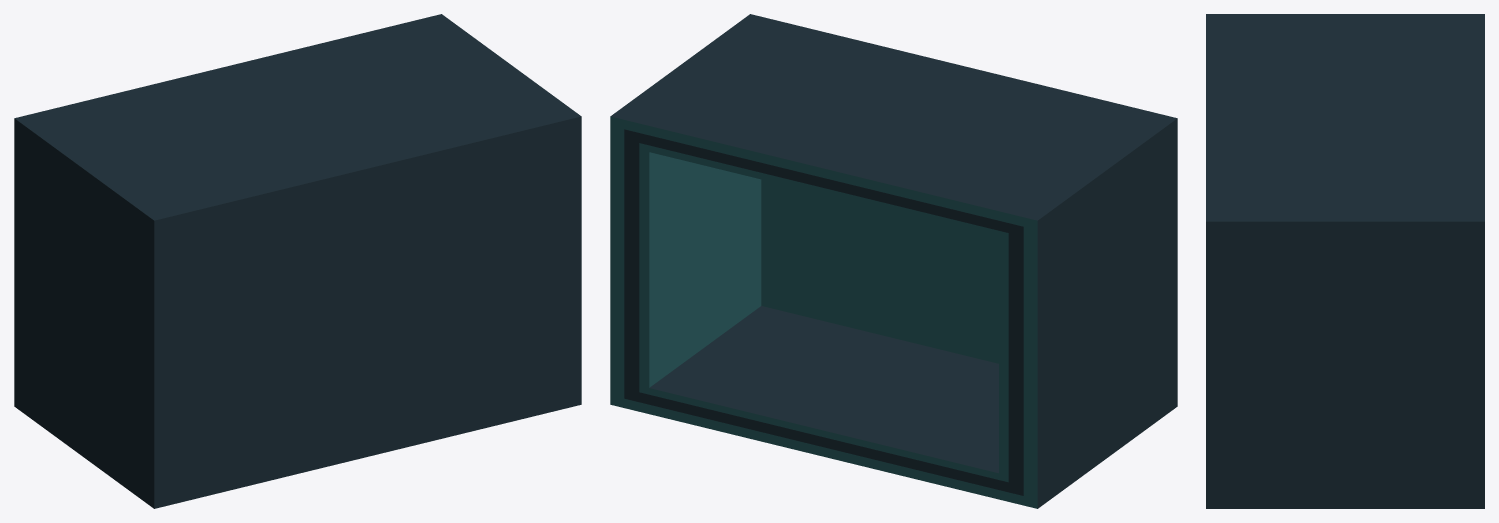
Rendered from Interior_Shelf_Leetle_Blue.fbx.
3 views of the same model, side by side, from view 1: azimuth 30°, elevation 25°; view 2: azimuth 150°, elevation 25°; view 3: azimuth 270°, elevation 25° (orthographic).
Parts seen in each view (by area): view 1: Cube.236; view 2: Cube.236; view 3: Cube.236.
Boxes of the visible parts, x1,y1,x2,y2 form: Cube.236: [14, 14, 581, 508]; Cube.236: [610, 14, 1177, 508]; Cube.236: [1206, 14, 1484, 508].
Bounding box in the file's own units: 67.72 × 43.66 × 38.41.
